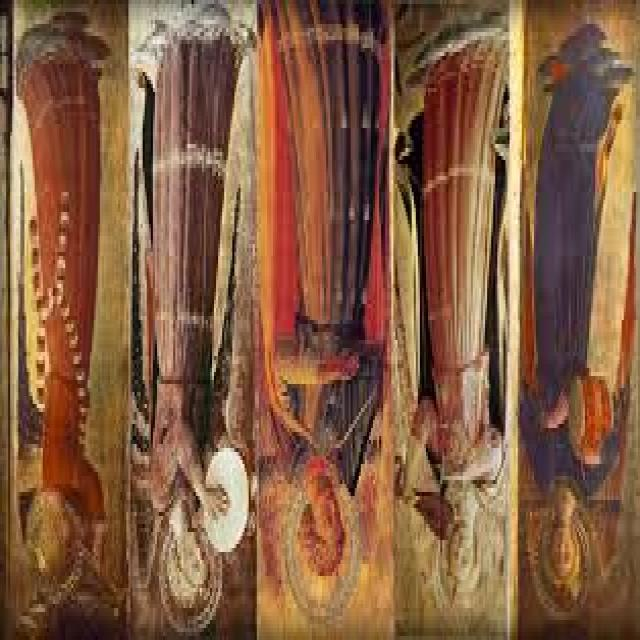angel: (260, 0, 386, 611), (396, 0, 520, 609), (10, 0, 130, 625), (134, 0, 252, 620), (524, 0, 640, 608)
